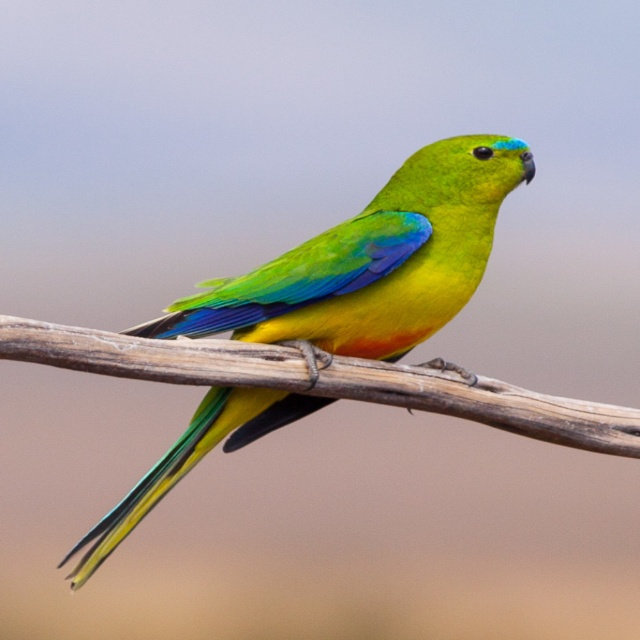Parrot: (63, 119, 532, 605)
